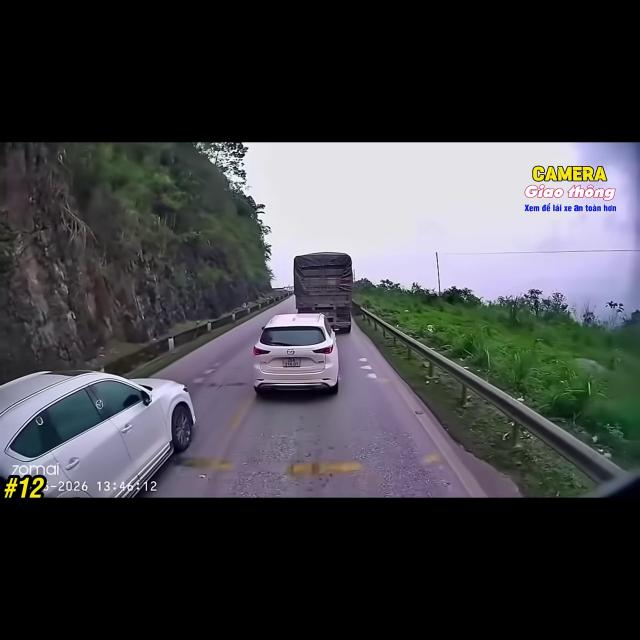car: (0, 370, 195, 497), (253, 314, 338, 394)
truck: (294, 252, 353, 332)
